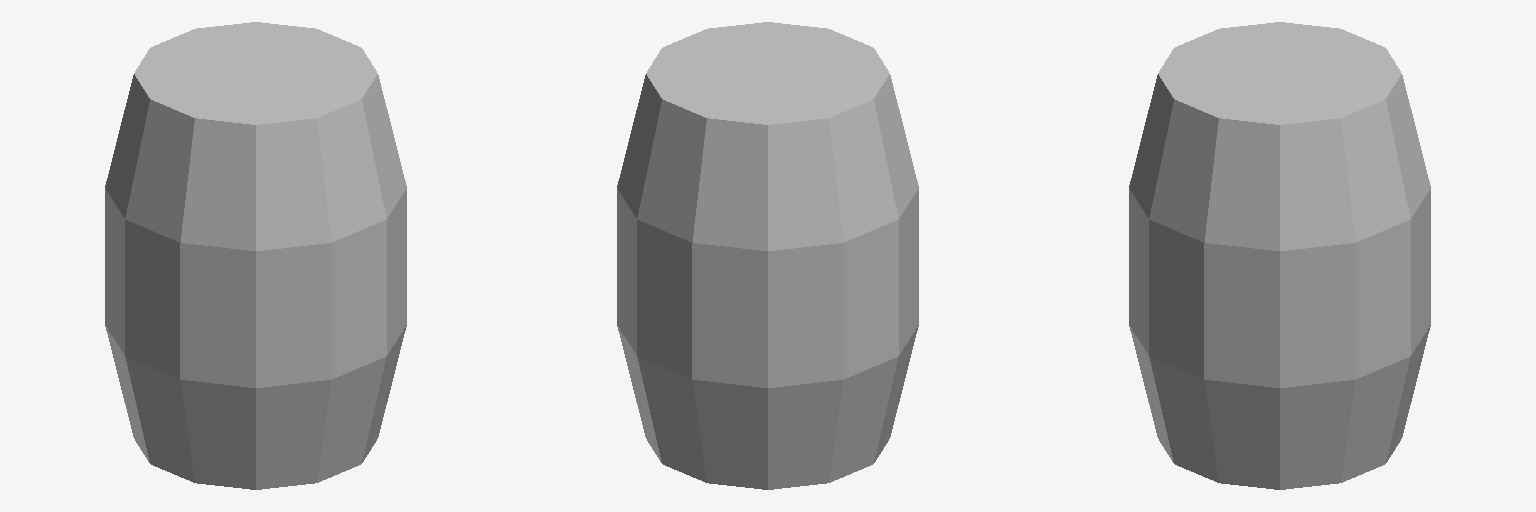
The model's file is barrel.obj.
3 renders of one model, left to right at view 1: azimuth 30°, elevation 25°; view 2: azimuth 150°, elevation 25°; view 3: azimuth 270°, elevation 25°, orthographic.
Bounding box in the file's own units: 1.93 × 2.57 × 1.93.